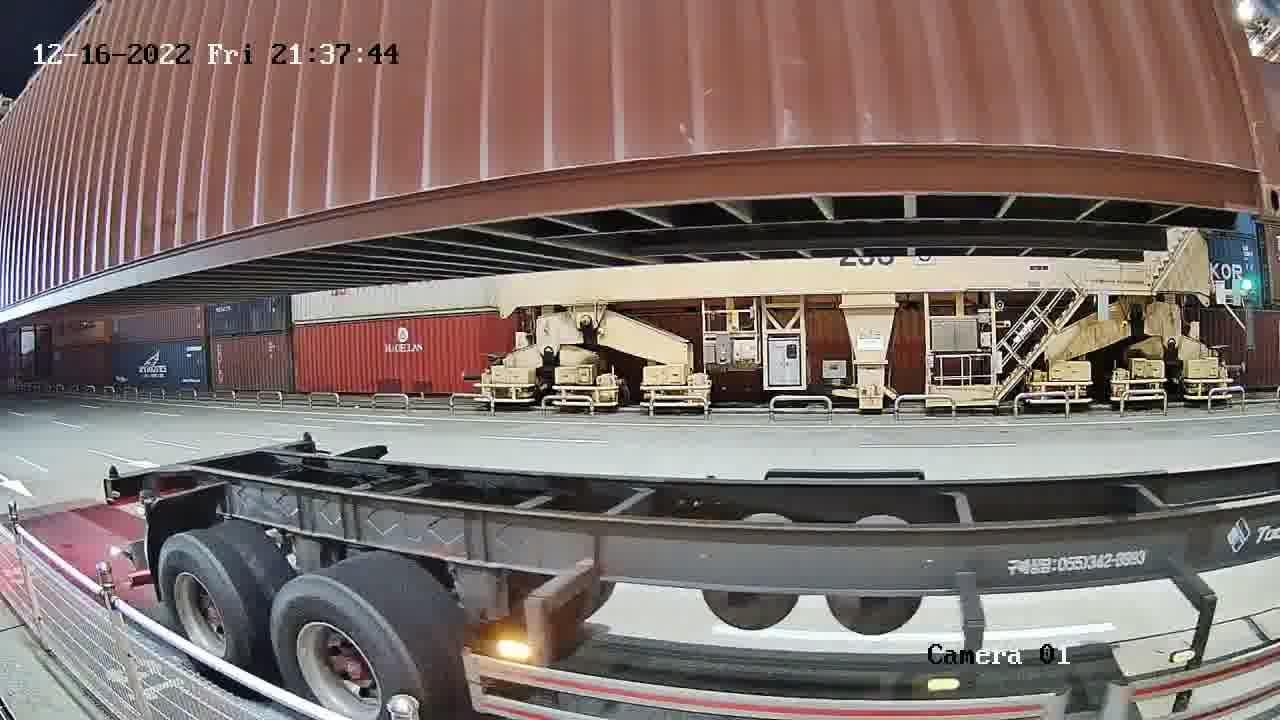Cone: (105, 460, 125, 504), (299, 431, 318, 452)
Hole_R: (1215, 134, 1279, 215)
Tire: (270, 580, 429, 719), (157, 535, 258, 670)
